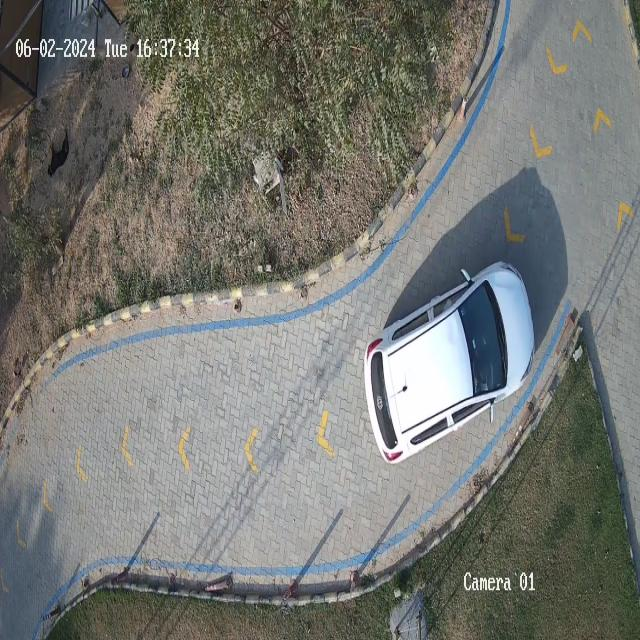car: (365, 262, 535, 462)
